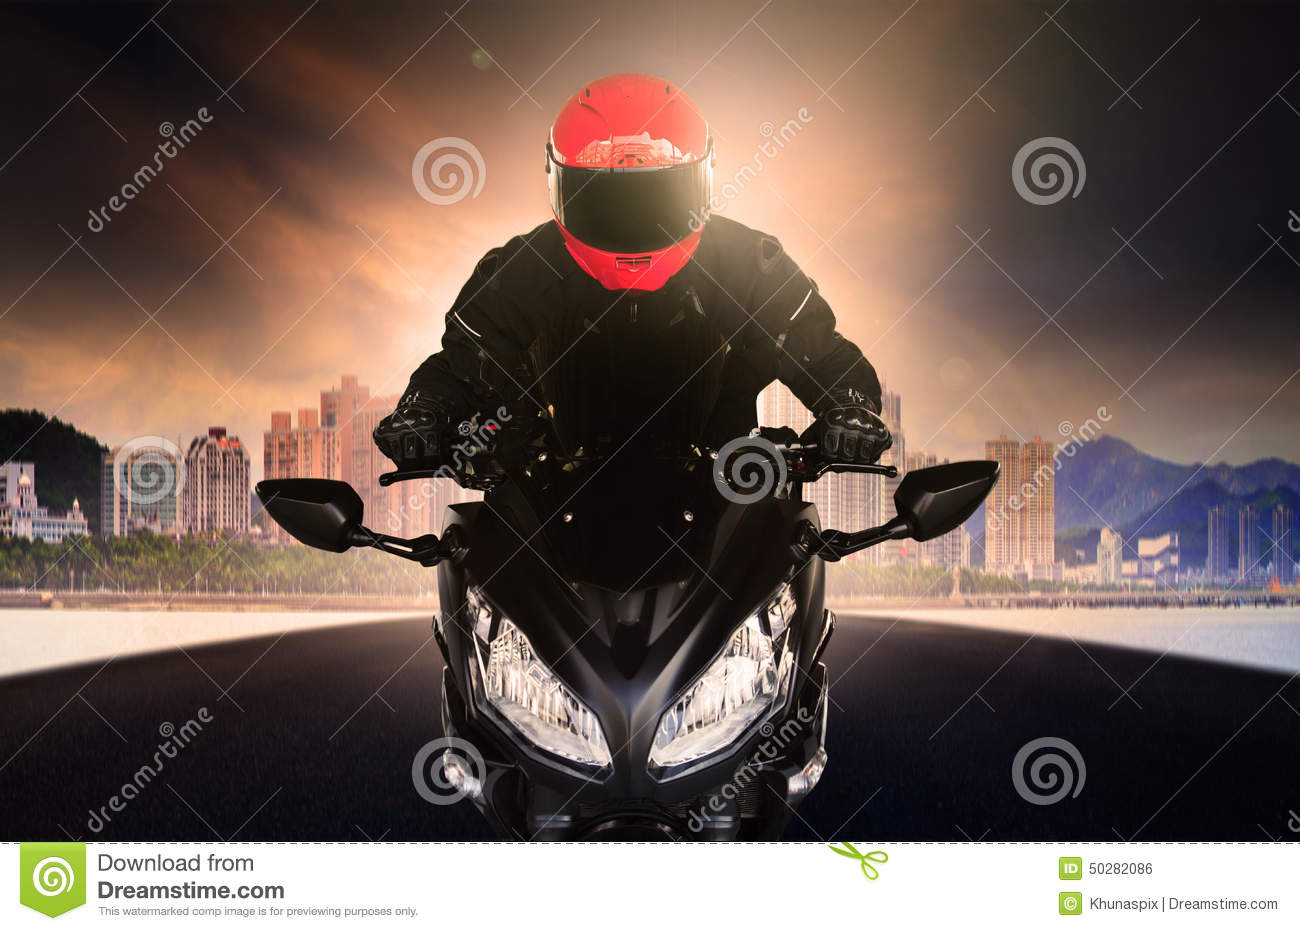helmet: (537, 66, 717, 302)
